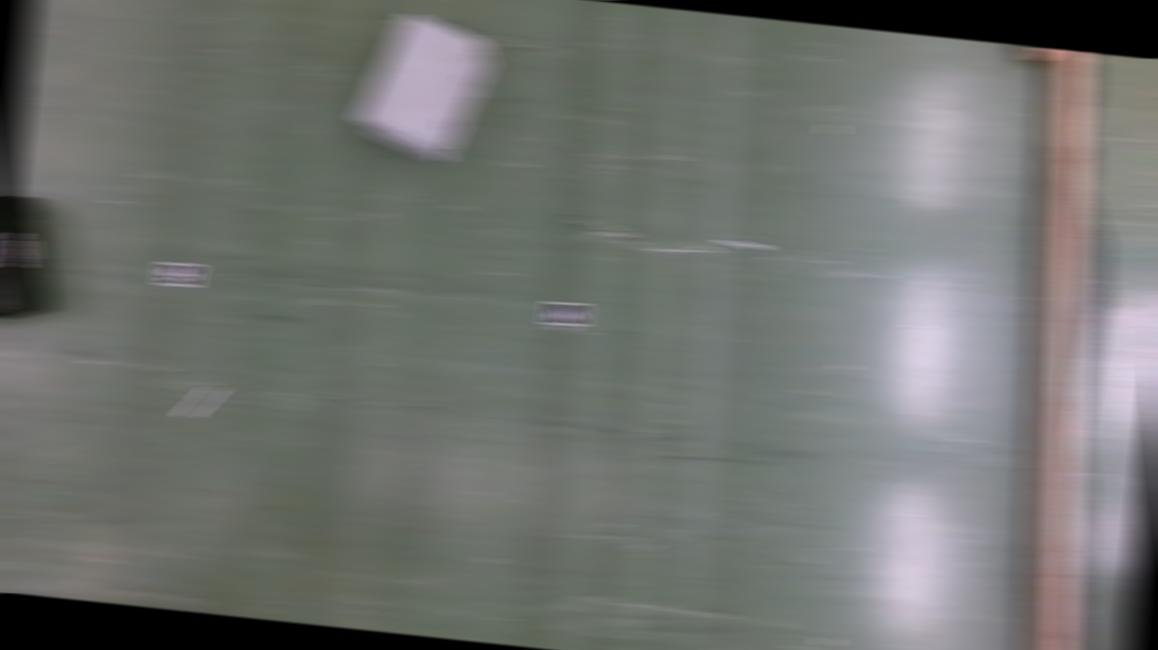probes: (178, 382, 221, 420), (716, 237, 766, 250)
rako: (350, 5, 498, 168), (0, 189, 64, 334)
